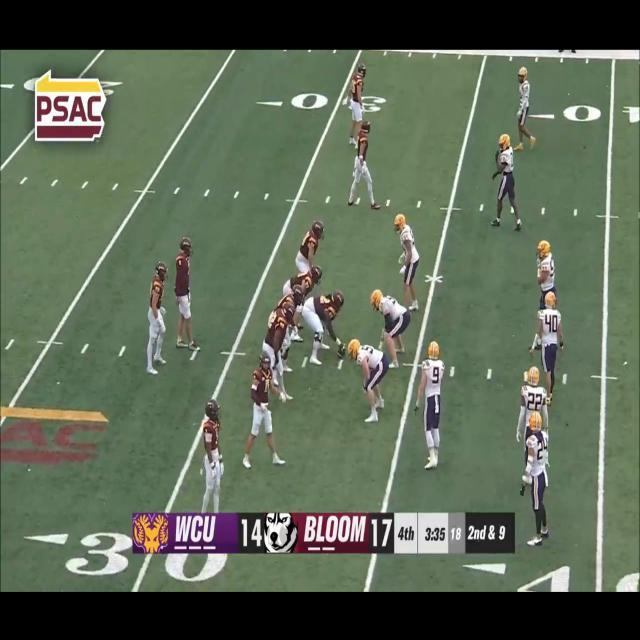football: (333, 342, 347, 368)
